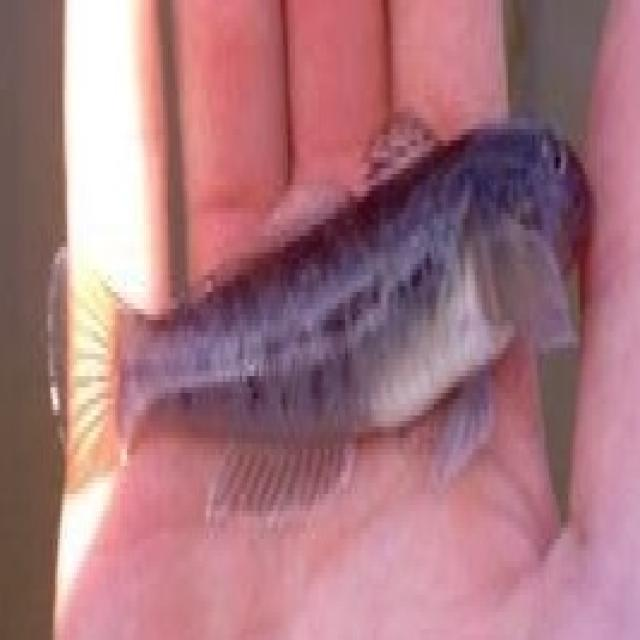Goby: (13, 51, 610, 543)
